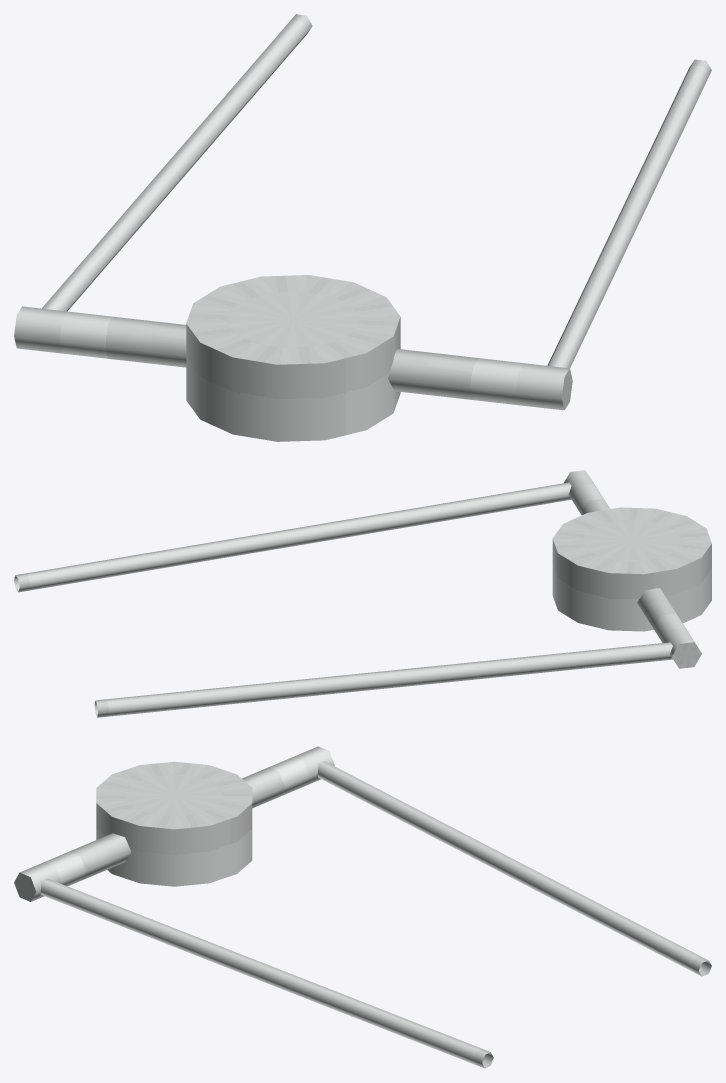
File: nycsignalarm_diagonal6_c0_thin.obj
The picture shows the model from 3 angles, top to bottom: view 1: azimuth 30°, elevation 25°; view 2: azimuth 150°, elevation 25°; view 3: azimuth 270°, elevation 25°; orthographic projection. The views are drawn at different scales.
Visible parts, largest first — view 1: nycsignalarm_diagonal6_c0_thin; view 2: nycsignalarm_diagonal6_c0_thin; view 3: nycsignalarm_diagonal6_c0_thin.
Boxes of the visible parts, <box> form: nycsignalarm_diagonal6_c0_thin: <box>14,14,711,441</box>; nycsignalarm_diagonal6_c0_thin: <box>14,470,711,717</box>; nycsignalarm_diagonal6_c0_thin: <box>14,746,711,1068</box>.
Bounding box in the file's own units: 2.48 × 0.225 × 2.48.
